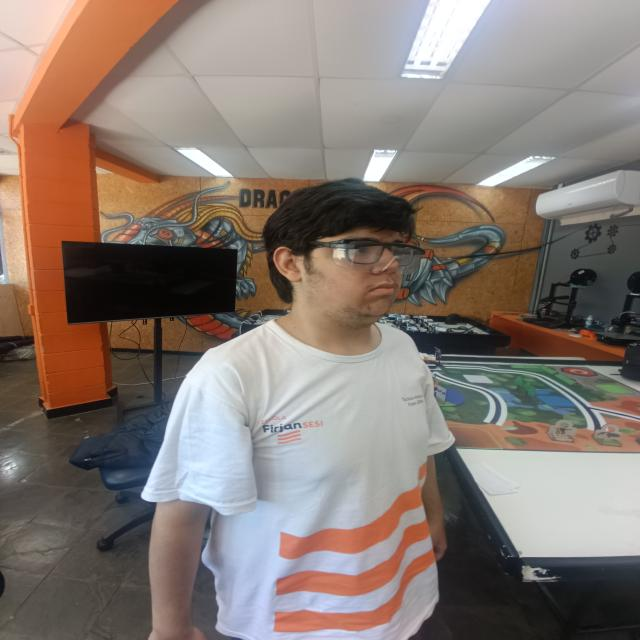oculos-epi: (301, 241, 425, 274)
